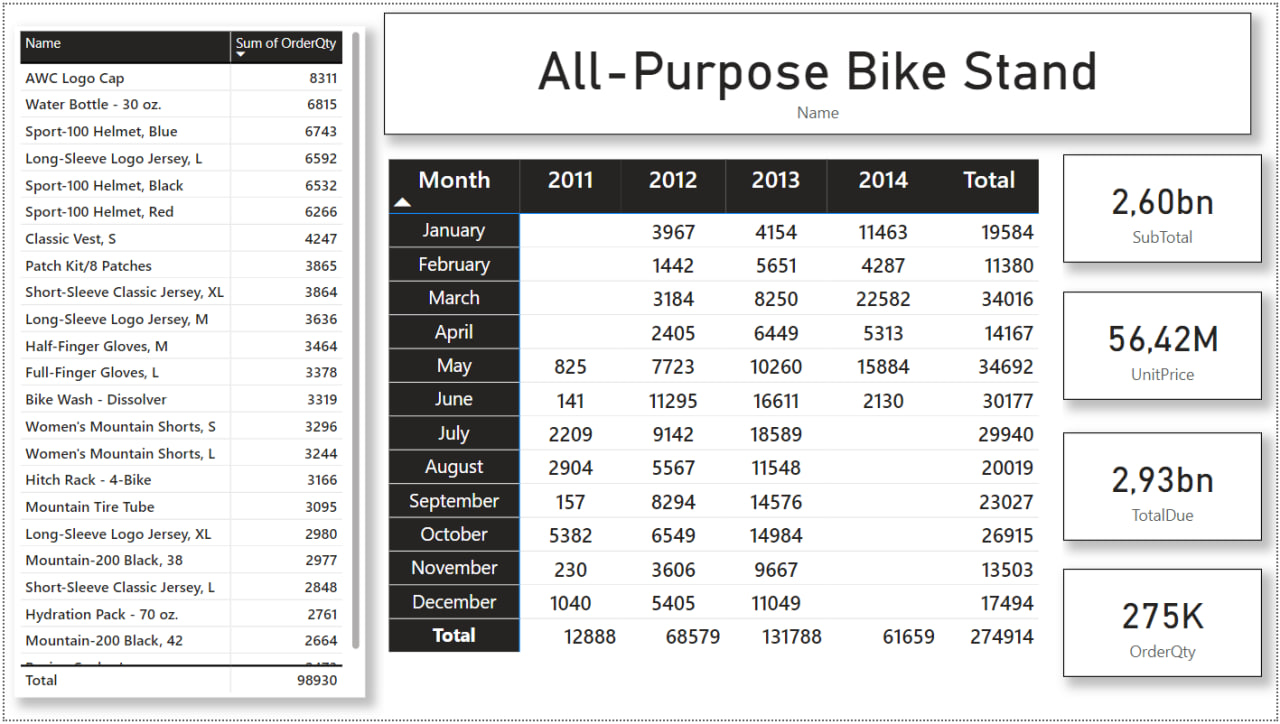

The dashboard page shown, as its layout file describes it:
{"tool":"powerbi","page":{"name":"Products","canvas":[1280,720],"ordinal":2},"visuals":[{"type":"tableEx","fields":{"Values":["Header.Name","Sum(Header.OrderQty)"]},"box":[10,22.2,353.3,675.6],"z":0},{"type":"card","fields":{"Values":["Sum(Header.SubTotal)"]},"box":[1065.6,151.1,200,108.9],"z":1000},{"type":"card","fields":{"Values":["Sum(Header.UnitPrice)"]},"box":[1065.6,288.9,200,108.9],"z":2000},{"type":"card","fields":{"Values":["Sum(Header.TotalDue)"]},"box":[1065.6,431.1,200,108.9],"z":3000},{"type":"pivotTable","fields":{"Columns":["Header.OrderDate.Variation.Date Hierarchy.Year"],"Rows":["Header.OrderDate.Variation.Date Hierarchy.Month"],"Values":["Sum(Header.OrderQty)"]},"box":[382.2,151.1,683.3,560],"z":4000},{"type":"card","fields":{"Values":["Min(Header.Name)"]},"box":[382.2,7.8,873.3,123.3],"z":5000},{"type":"card","fields":{"Values":["Sum(Header.OrderQty)"]},"box":[1065.6,567.8,200,108.9],"z":6000}]}

Visuals, with their boxes in screenshot pixels (x1, y1, x2, y2), scaled from the page's 1280x720 canvas onto the 1280x724 screenshot:
tableEx - Header.Name x Sum(Header.OrderQty): 10/22/363/702
card - Sum(Header.SubTotal): 1066/152/1266/261
card - Sum(Header.UnitPrice): 1066/291/1266/400
card - Sum(Header.TotalDue): 1066/433/1266/543
pivotTable - Header.OrderDate.Variation.Date Hierarchy.Year x Header.OrderDate.Variation.Date Hierarchy.Month: 382/152/1066/715
card - Min(Header.Name): 382/8/1256/132
card - Sum(Header.OrderQty): 1066/571/1266/680
